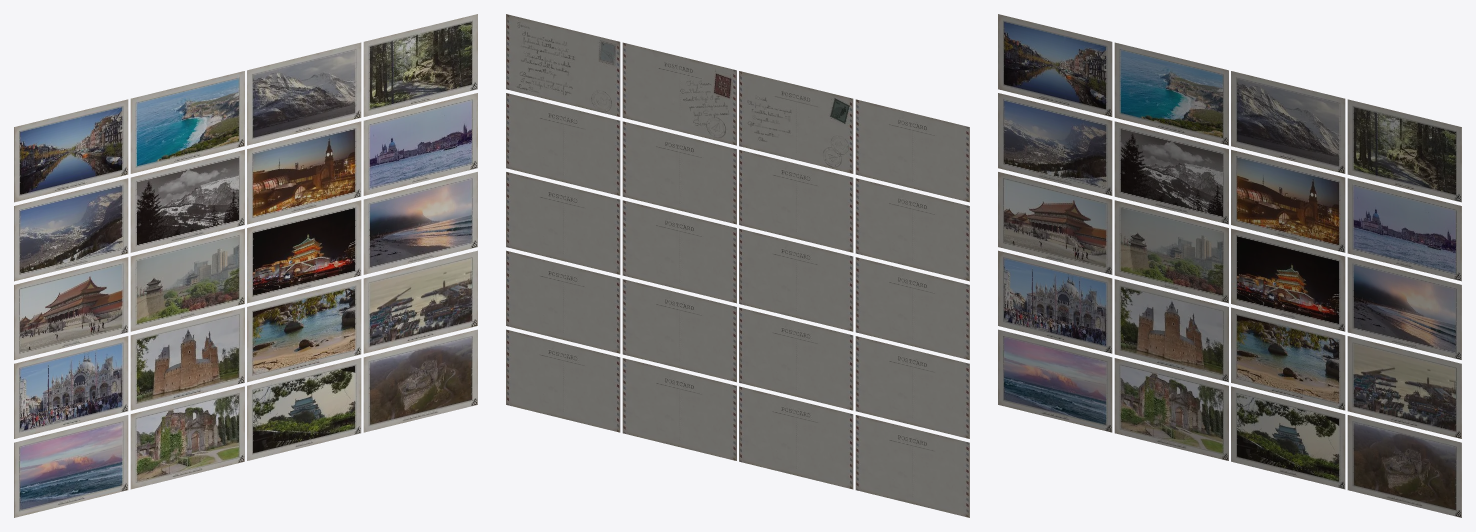
File: postcards.glb
The picture shows the model from 3 angles, left to right: view 1: azimuth 30°, elevation 25°; view 2: azimuth 150°, elevation 25°; view 3: azimuth 330°, elevation 25°; orthographic projection.
Visible parts, largest first — view 1: postcard_01, postcard_03, postcard_05, postcard_07, postcard_14, postcard_16, postcard_18, postcard_20, postcard_10, postcard_11, postcard_02, postcard_08 (+8 smaller); view 2: postcard_01, postcard_03, postcard_05, postcard_07, postcard_14, postcard_16, postcard_18, postcard_20, postcard_10, postcard_11, postcard_02, postcard_08 (+8 smaller); view 3: postcard_02, postcard_04, postcard_06, postcard_08, postcard_13, postcard_15, postcard_17, postcard_19, postcard_10, postcard_11, postcard_03, postcard_05 (+8 smaller).
Part boxes in pixels (bbox=[...]): postcard_01: bbox=[14, 99, 128, 202]; postcard_03: bbox=[247, 42, 361, 145]; postcard_05: bbox=[14, 178, 128, 281]; postcard_07: bbox=[247, 121, 361, 224]; postcard_14: bbox=[130, 307, 244, 410]; postcard_16: bbox=[363, 250, 477, 353]; postcard_18: bbox=[130, 386, 244, 489]; postcard_20: bbox=[363, 329, 477, 432]; postcard_10: bbox=[130, 228, 244, 331]; postcard_11: bbox=[247, 200, 361, 303]; postcard_02: bbox=[130, 71, 244, 173]; postcard_08: bbox=[363, 93, 477, 195]; postcard_01: bbox=[855, 99, 969, 202]; postcard_03: bbox=[622, 42, 736, 145]; postcard_05: bbox=[855, 178, 969, 281]; postcard_07: bbox=[622, 121, 736, 224]; postcard_14: bbox=[739, 307, 853, 410]; postcard_16: bbox=[506, 250, 620, 353]; postcard_18: bbox=[739, 386, 853, 489]; postcard_20: bbox=[506, 329, 620, 432]; postcard_10: bbox=[739, 228, 853, 331]; postcard_11: bbox=[622, 200, 736, 303]; postcard_02: bbox=[739, 71, 853, 173]; postcard_08: bbox=[506, 93, 620, 195]; postcard_02: bbox=[1114, 42, 1228, 145]; postcard_04: bbox=[1347, 99, 1461, 202]; postcard_06: bbox=[1114, 121, 1228, 224]; postcard_08: bbox=[1347, 178, 1461, 281]; postcard_13: bbox=[998, 250, 1112, 353]; postcard_15: bbox=[1231, 307, 1345, 410]; postcard_17: bbox=[998, 329, 1112, 432]; postcard_19: bbox=[1231, 386, 1345, 489]; postcard_10: bbox=[1114, 200, 1228, 303]; postcard_11: bbox=[1231, 228, 1345, 331]; postcard_03: bbox=[1231, 71, 1345, 173]; postcard_05: bbox=[998, 93, 1112, 195].
Size of the model in its own units: 0.6767 by 0.545 by 0.000142.
Materials: 1 (1 with a texture image).
